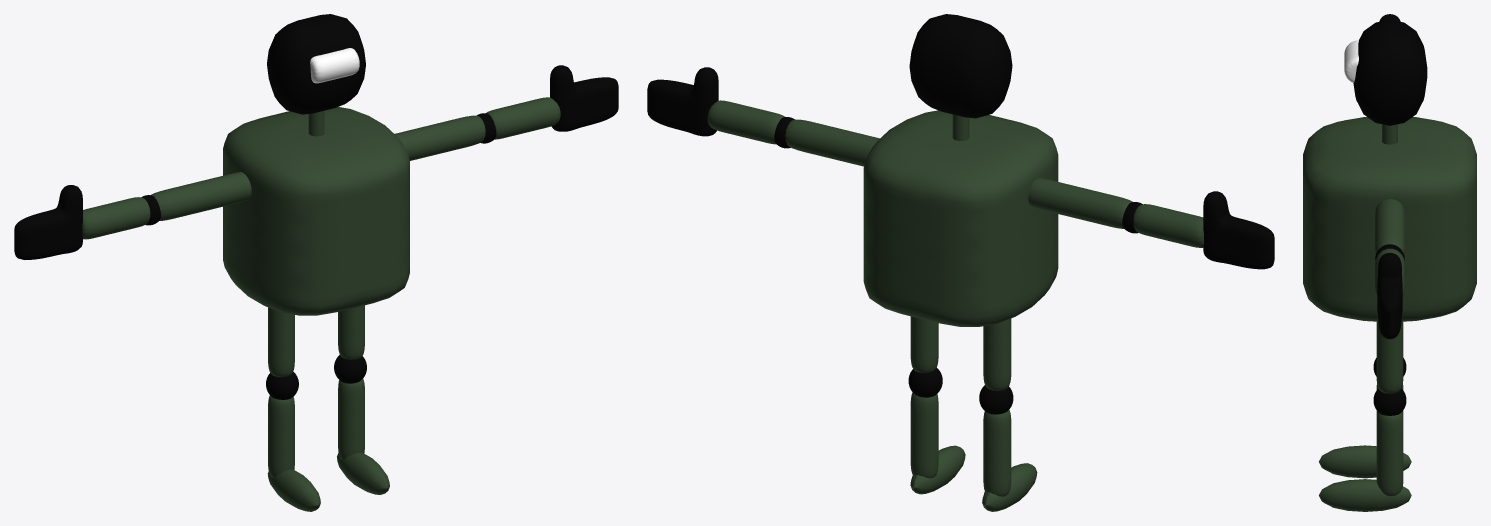
Rendered from draft.fbx.
3 views of the same model, side by side, from view 1: azimuth 30°, elevation 25°; view 2: azimuth 150°, elevation 25°; view 3: azimuth 270°, elevation 25° (orthographic). The views are drawn at different scales.
Parts seen in each view (by area): view 1: Cube, Cylinder_4, Cylinder_5, Cylinder_1, Cylinder, Sphere, Cylinder_3, Sphere_2; view 2: Cube, Cylinder_4, Cylinder_1, Cylinder_5, Cylinder, Sphere, Sphere_2; view 3: Cube, Cylinder_1, Cylinder, Cylinder_4, Sphere, Cylinder_3, Cylinder_5, Cylinder_2.
Part boxes in pixels (box(x1,y1,x2,y2)): Cube: box(14, 14, 618, 511); Cylinder_4: box(150, 115, 485, 220); Cylinder_5: box(82, 97, 560, 239); Cylinder_1: box(268, 378, 364, 477); Cylinder: box(268, 305, 364, 377); Sphere: box(266, 355, 366, 399); Cylinder_3: box(310, 48, 359, 83); Sphere_2: box(141, 113, 496, 225); Cube: box(647, 14, 1274, 511); Cylinder_4: box(785, 119, 1132, 228); Cylinder_1: box(910, 392, 1011, 496); Cylinder_5: box(707, 100, 1203, 247); Cylinder: box(910, 316, 1011, 390); Sphere: box(908, 368, 1013, 414); Sphere_2: box(774, 117, 1142, 233); Cube: box(1303, 14, 1476, 511); Cylinder_1: box(1376, 384, 1403, 496); Cylinder: box(1376, 321, 1403, 393); Cylinder_4: box(1375, 199, 1404, 254); Sphere: box(1373, 358, 1406, 415); Cylinder_3: box(1344, 40, 1358, 82); Cylinder_5: box(1375, 248, 1404, 295); Cylinder_2: box(1382, 124, 1397, 144).
Bounding box in the file's own units: 799 × 590 × 200.
